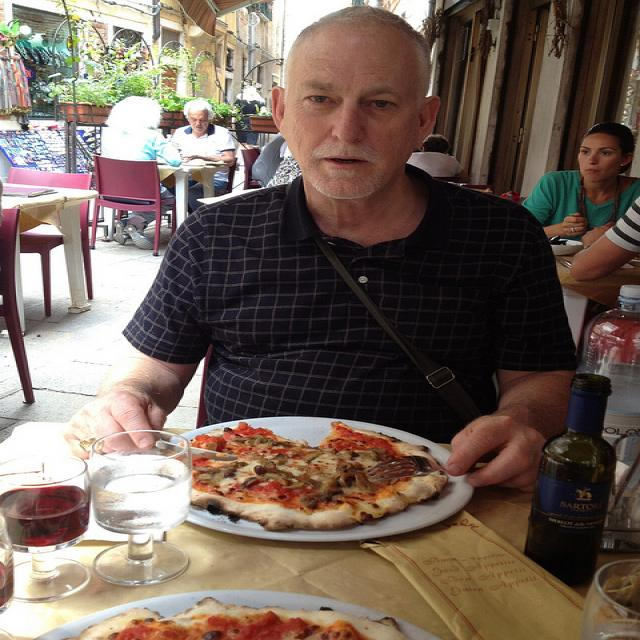chair: (6, 167, 96, 315), (90, 155, 176, 256), (0, 236, 37, 407), (241, 148, 262, 190)
dining table: (0, 507, 613, 640), (0, 181, 100, 315), (549, 238, 640, 356), (159, 162, 229, 231)
